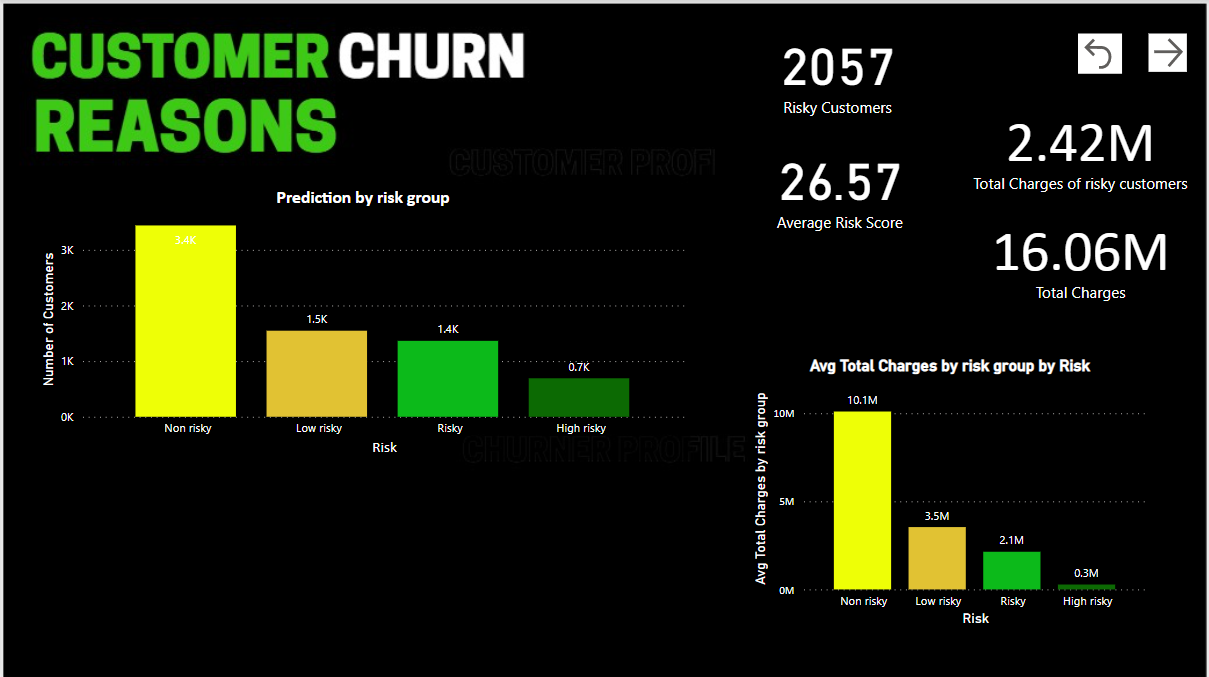

The page's visual inventory and layout, read from the dashboard file:
{"tool":"powerbi","page":{"name":"Churn Reasons","canvas":[1280,720],"ordinal":3},"visuals":[{"type":"columnChart","title":"Prediction by risk group","fields":{"Category":["Telco-Churn-Analysis-Predictions.Risk"],"Y":["CountNonNull(Telco-Churn-Analysis-Predictions.Risk)"]},"box":[36,198,694,290],"z":1000},{"type":"card","fields":{"Values":["Sum(Telco-Churn-Analysis-Predictions.TotalCharges)"]},"box":[1042,218,202,108],"z":5000},{"type":"card","fields":{"Values":["Sum(Telco-Churn-Analysis-Predictions.TotalCharges)"]},"box":[1020,96,246,122],"z":6000},{"type":"card","fields":{"Values":["Avg(Telco-Churn-Analysis-Predictions.Prediction)"]},"box":[756,136,264,122],"z":7000},{"type":"card","fields":{"Values":["CountNonNull(Telco-Churn-Analysis-Predictions.Risk)"]},"box":[766,14,240,122],"z":8000},{"type":"clusteredColumnChart","fields":{"Category":["Telco-Churn-Analysis-Predictions.Risk"],"Y":["Sum(Telco-Churn-Analysis-Predictions.TotalCharges)"]},"box":[792,378,428,290],"z":11000},{"type":"actionButton","box":[1141.5,35.8,46.6,43],"z":12000},{"type":"actionButton","box":[1215.5,35.8,40.6,40.6],"z":13000}]}

Visuals, with their boxes in screenshot pixels (x1, y1, x2, y2), scaled from the page's 1280x720 canvas onto the 1209x677 screenshot:
"Prediction by risk group" columnChart: 34 186 690 459
card - Sum(Telco-Churn-Analysis-Predictions.TotalCharges): 984 205 1175 307
card - Sum(Telco-Churn-Analysis-Predictions.TotalCharges): 963 90 1196 205
card - Avg(Telco-Churn-Analysis-Predictions.Prediction): 714 128 963 243
card - CountNonNull(Telco-Churn-Analysis-Predictions.Risk): 724 13 950 128
clusteredColumnChart - Telco-Churn-Analysis-Predictions.Risk x Sum(Telco-Churn-Analysis-Predictions.TotalCharges): 748 355 1152 628
actionButton: 1078 34 1122 74
actionButton: 1148 34 1186 72
